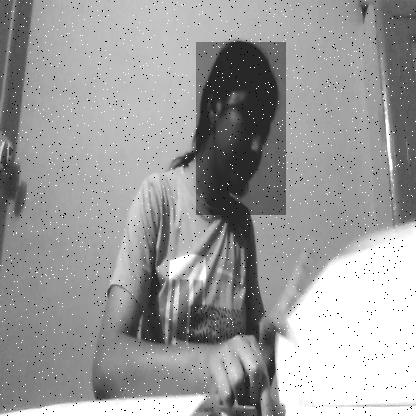Distracted: (196, 42, 286, 215)
